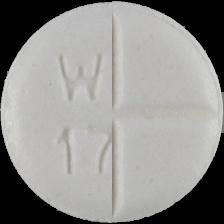0143-1172: (0, 0, 224, 224)
